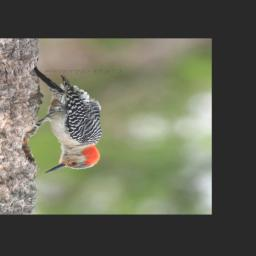Woodpecker: (29, 60, 110, 177)
